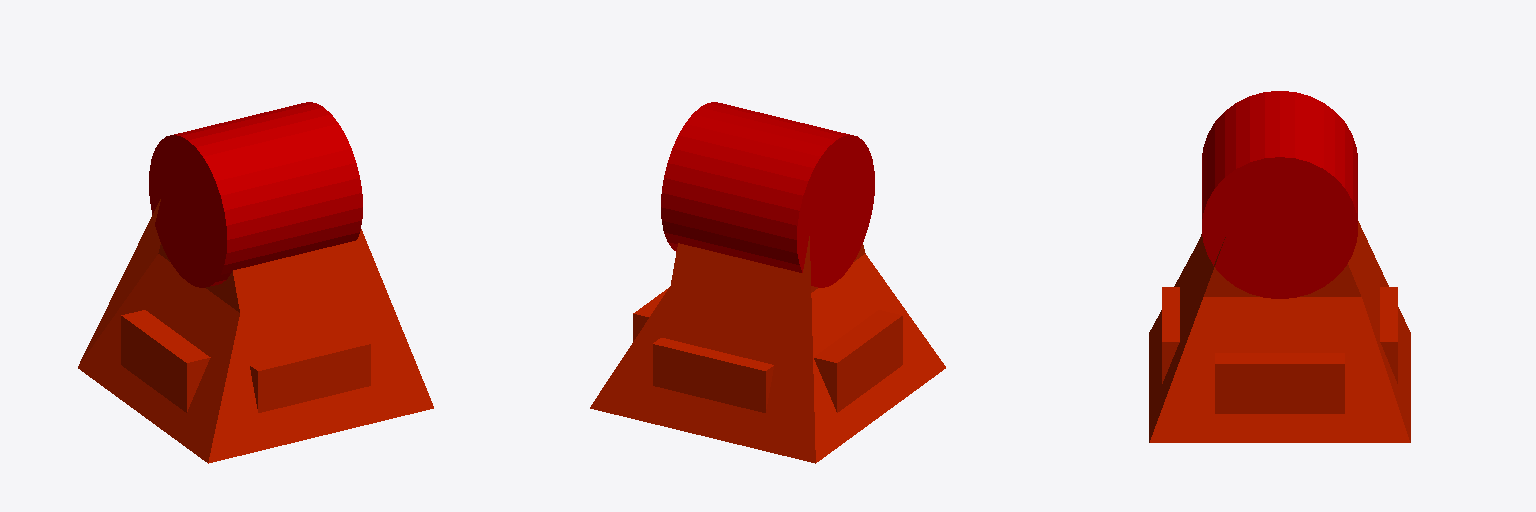
3 renders of one model, left to right at view 1: azimuth 30°, elevation 25°; view 2: azimuth 150°, elevation 25°; view 3: azimuth 270°, elevation 25°, orthographic.
Parts seen in each view (by area): view 1: Base; view 2: Base; view 3: Base.
Part boxes in pixels (left/top/right/bottom): Base: left=78, top=102, right=433, bottom=463; Base: left=590, top=102, right=945, bottom=463; Base: left=1149, top=91, right=1410, bottom=442.
Bounding box in the file's own units: 0.4 × 0.4459 × 0.4.